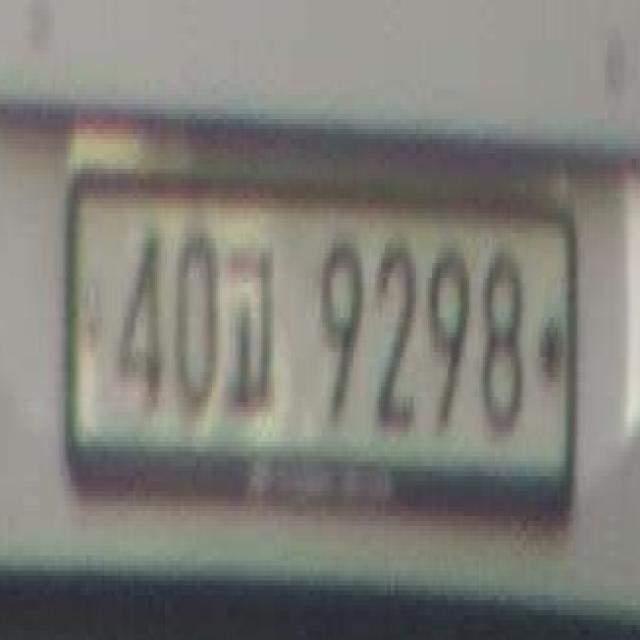0: (173, 223, 218, 417)
2: (377, 233, 416, 437)
4: (114, 228, 169, 412)
8: (481, 243, 526, 442)
9: (422, 243, 471, 437), (316, 233, 363, 427)
go: (224, 238, 275, 422)
license_plate: (59, 159, 575, 531)
